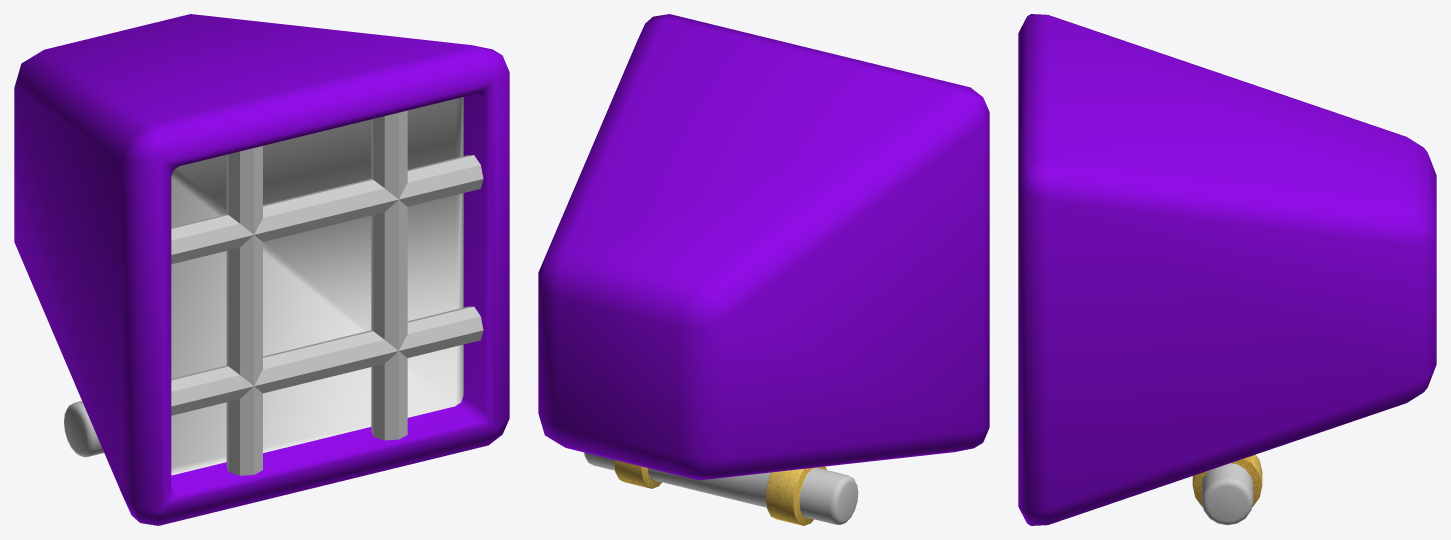
The model's file is Lamp.fbx.
3 renders of one model, left to right at view 1: azimuth 30°, elevation 25°; view 2: azimuth 150°, elevation 25°; view 3: azimuth 270°, elevation 25°, orthographic. The views are drawn at different scales.
Parts seen in each view (by area): view 1: Lamp; view 2: Lamp; view 3: Lamp.
Boxes of the visible parts, x1,y1,x2,y2 form: Lamp: (14, 14, 509, 525); Lamp: (538, 14, 989, 525); Lamp: (1018, 14, 1436, 525).
Bounding box in the file's own units: 189 × 200 × 196.
